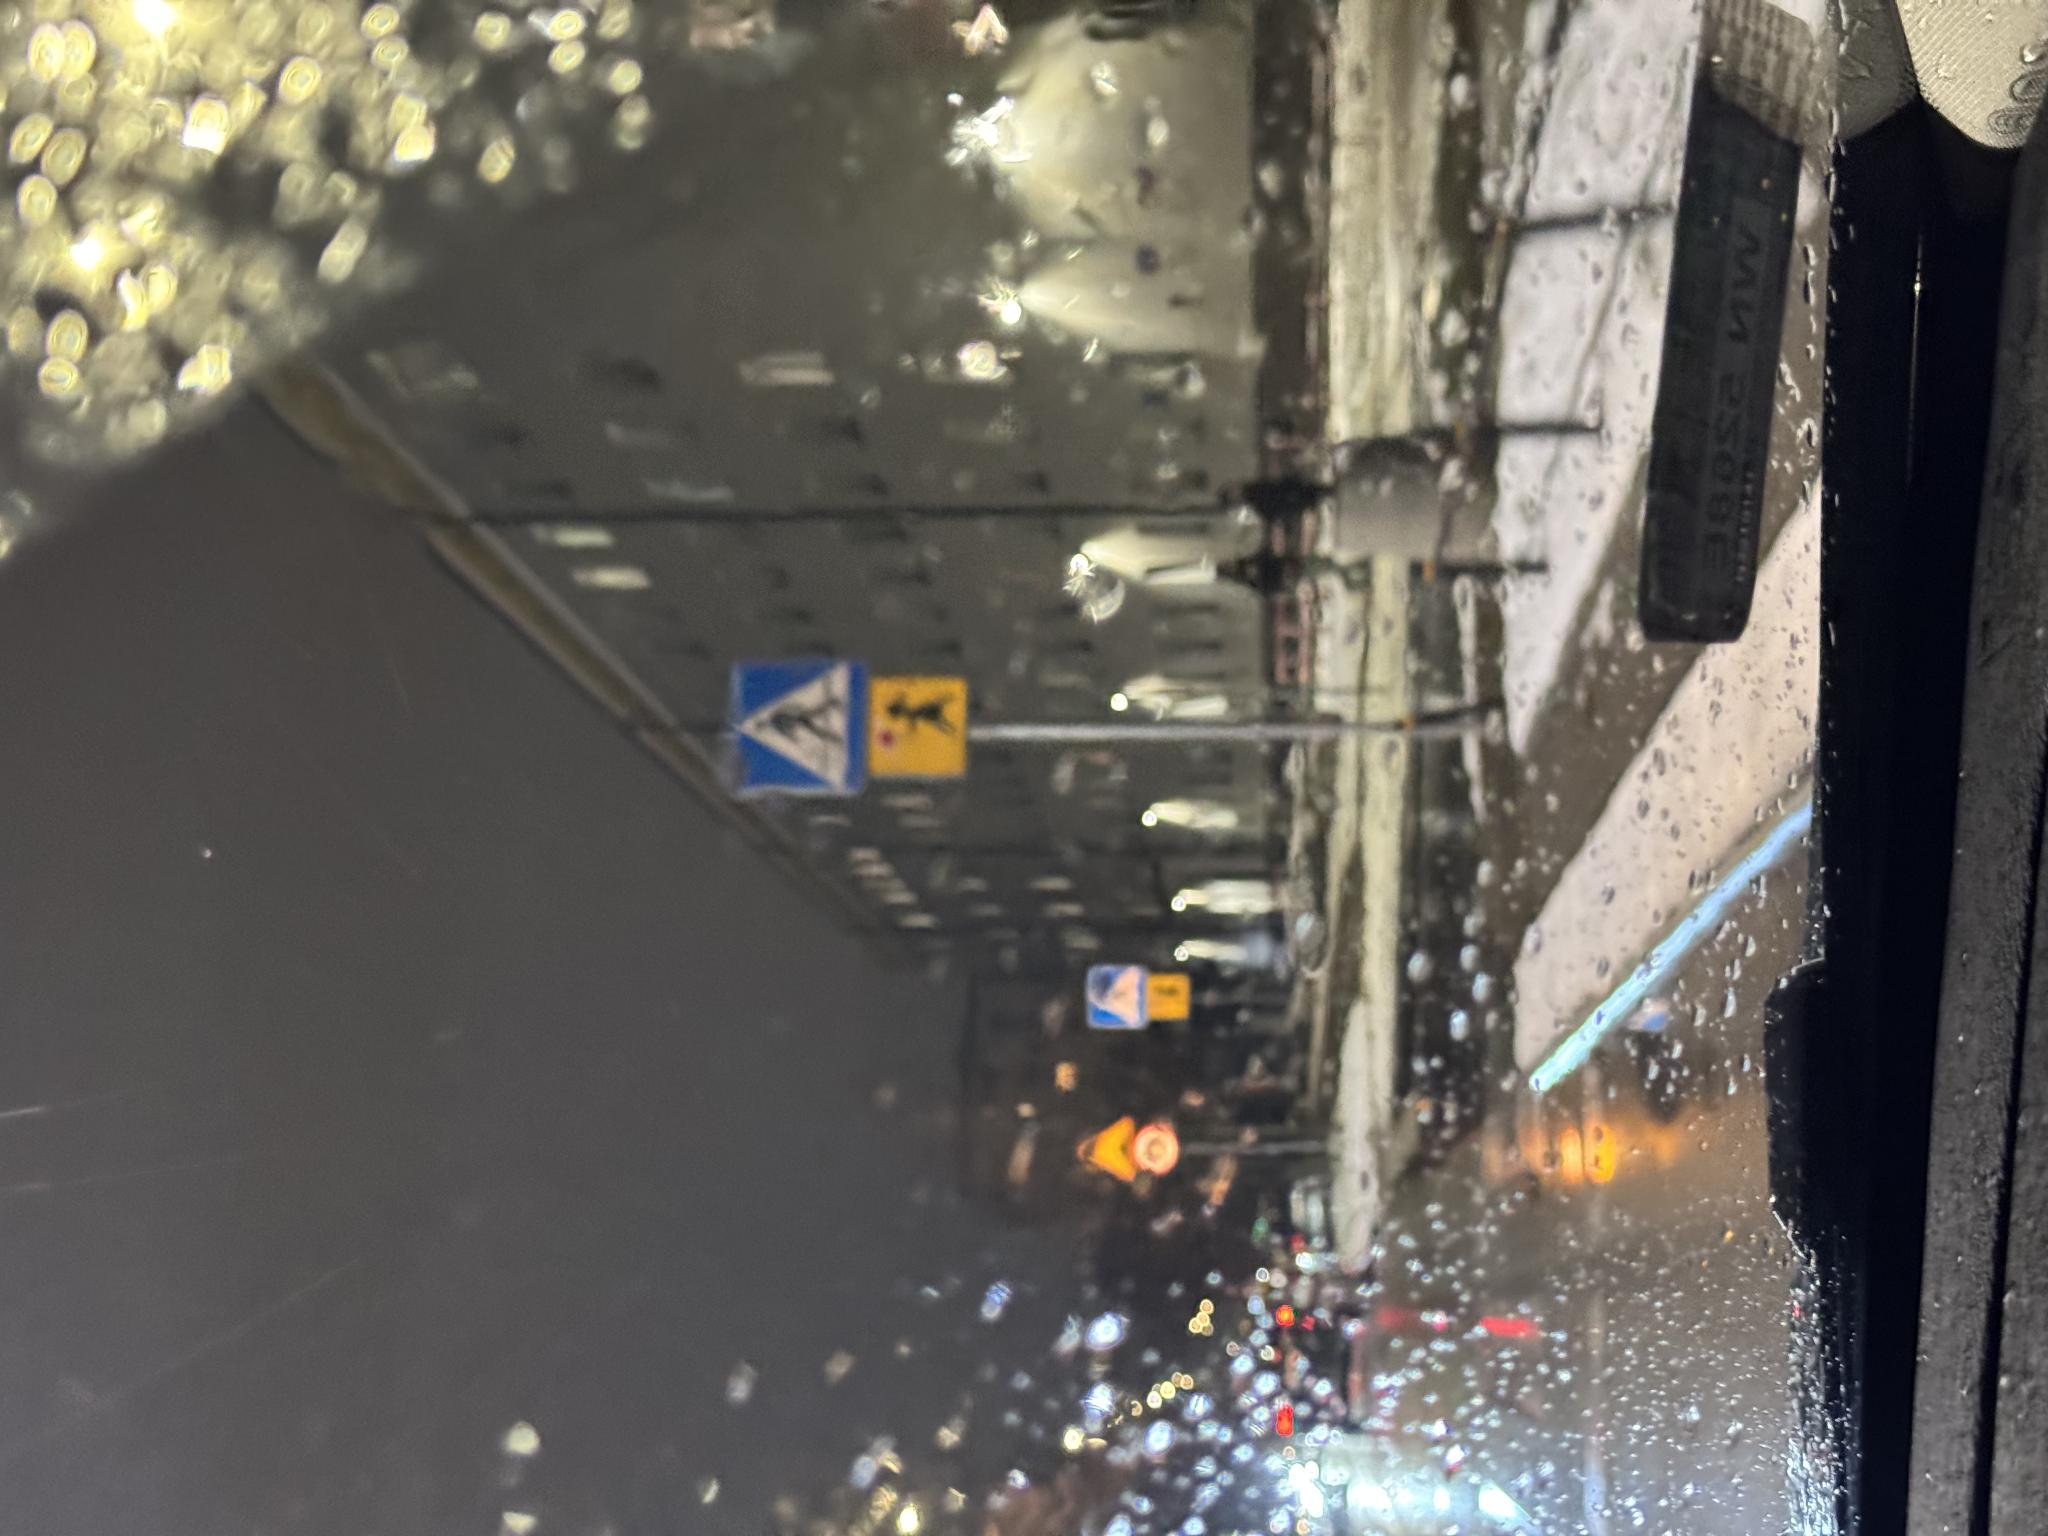information: (740, 734, 879, 866), (508, 1087, 572, 1150)
other: (758, 866, 863, 968), (518, 1149, 561, 1189)
prohibitory: (361, 1131, 413, 1181)
warning: (353, 1078, 419, 1137)
